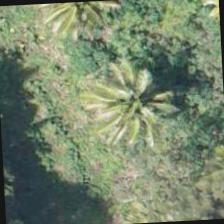Kelapa_Sawit: (78, 58, 173, 153), (26, 0, 119, 51), (161, 0, 221, 63)
